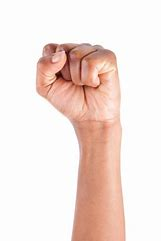closed: (36, 43, 121, 120)
